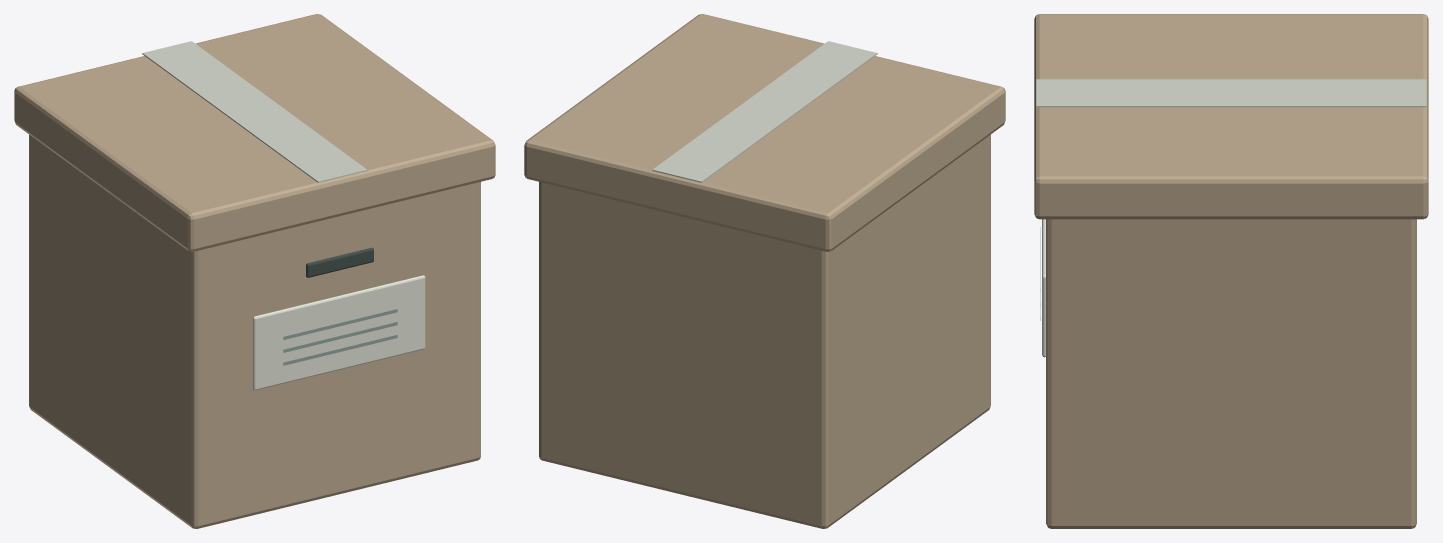
File: office-filebox.glb
3 renders of one model, left to right at view 1: azimuth 30°, elevation 25°; view 2: azimuth 150°, elevation 25°; view 3: azimuth 270°, elevation 25°, orthographic. The views are drawn at different scales.
Visible parts, largest first — view 1: office card.002, office paper.002, office cream.002, office sage.002, office ink.002; view 2: office card.002, office cream.002; view 3: office card.002, office cream.002, office paper.002.
Part boxes in pixels (x1,y1,x2,y2): office card.002: (14,14,495,528); office paper.002: (253,275,425,390); office cream.002: (142,41,367,182); office sage.002: (283,309,397,365); office ink.002: (306,247,373,277); office card.002: (524,14,1005,528); office cream.002: (652,41,877,182); office card.002: (1034,14,1428,528); office cream.002: (1036,79,1426,107); office paper.002: (1042,219,1045,357).
Size of the model in its own units: 1 by 1.01 by 1.
